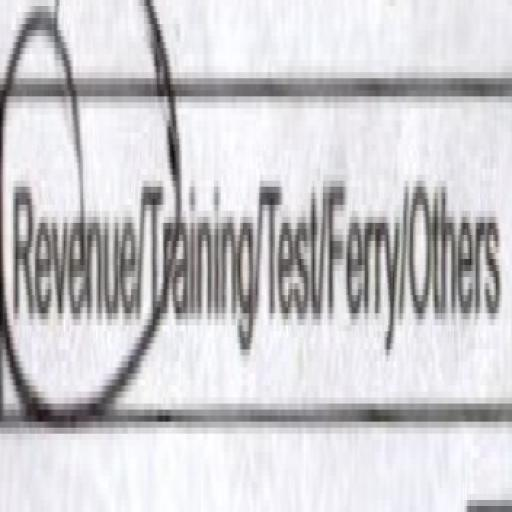check: (0, 0, 142, 466)
